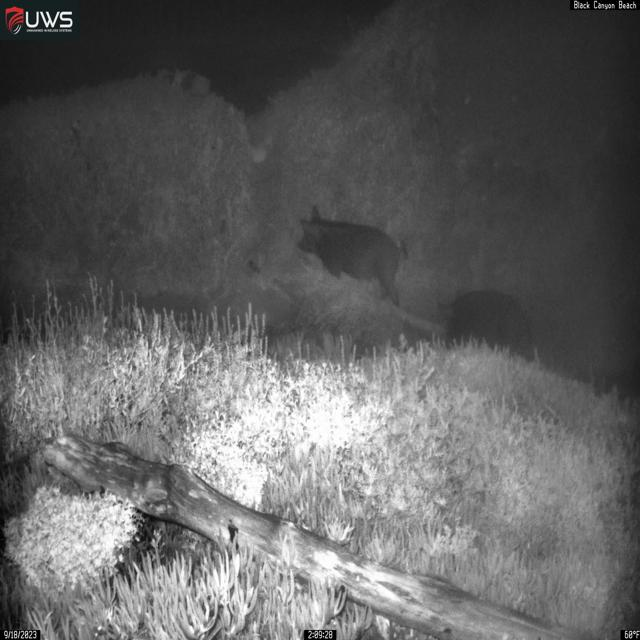pig: (297, 205, 409, 308)
